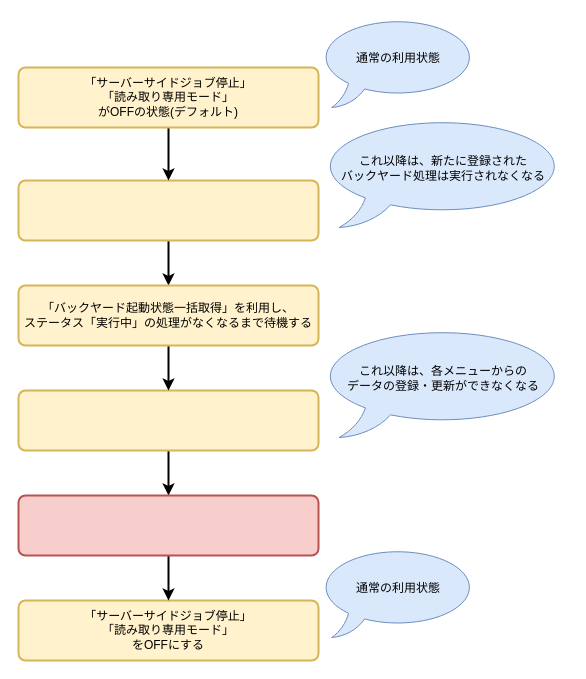
Image size: 586x679. Some labels were removed from this diagram. Each missing label, with the box of its shape:
「サーバーサイドジョブ停止」 をONにする: (17, 179, 319, 241)
「読み取り専用モード」 をONにする: (17, 389, 319, 451)
・データベースのバックアップ ・バージョンアップ などの作業を実施する: (17, 494, 319, 556)
